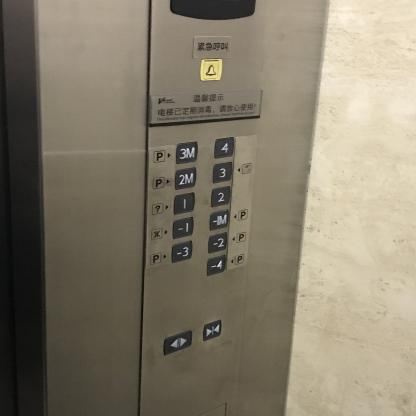-1: (172, 216, 194, 239)
-1M: (208, 209, 230, 232)
-2: (207, 231, 228, 254)
-3: (170, 240, 193, 263)
-4: (206, 254, 226, 276)
1: (172, 192, 196, 216)
2: (209, 184, 232, 207)
2M: (173, 166, 196, 190)
3: (211, 160, 233, 184)
3M: (174, 140, 199, 165)
4: (213, 136, 235, 159)
alarm: (199, 58, 223, 81)
close: (202, 318, 222, 341)
open: (162, 329, 193, 356)
